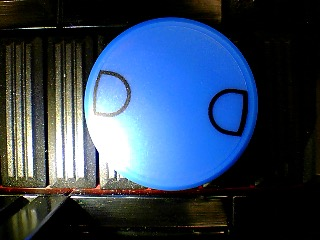MIPO2: (83, 17, 259, 191)
